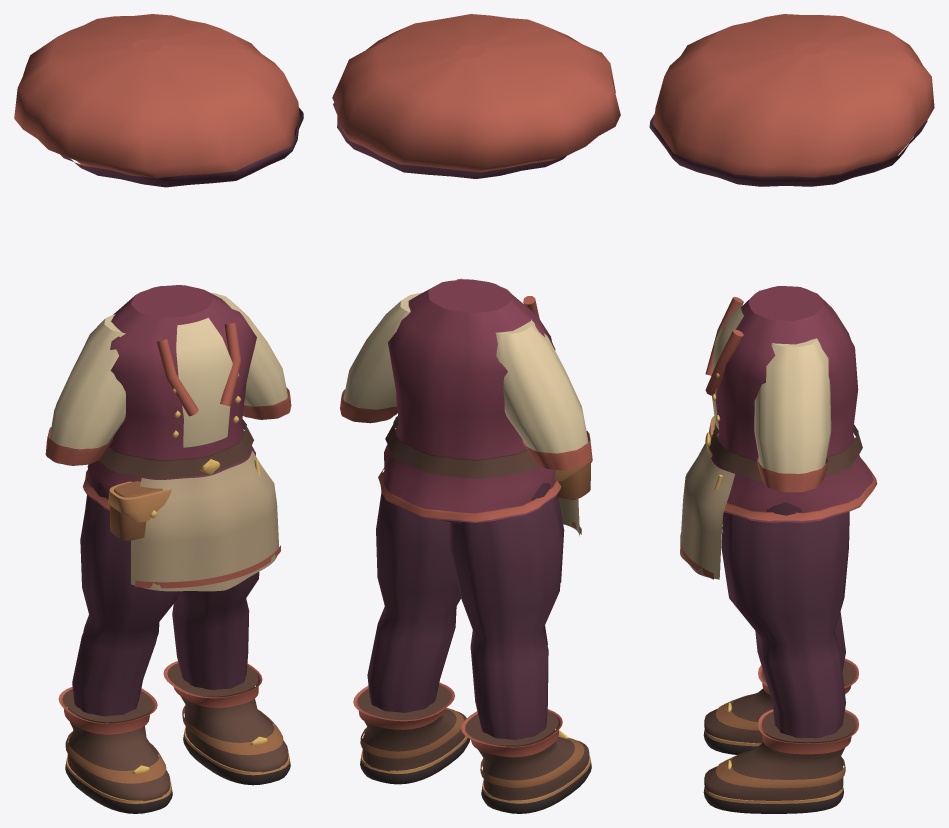
Rendered from merchant.glb.
3 views of the same model, side by side, from view 1: azimuth 30°, elevation 25°; view 2: azimuth 150°, elevation 25°; view 3: azimuth 270°, elevation 25° (orthographic). The views are drawn at different scales.
Parts seen in each view (by area): view 1: Top, Hat, Bottom, Boots; view 2: Top, Hat, Bottom, Boots; view 3: Hat, Top, Bottom, Boots.
Boxes of the visible parts, x1=… form: Top: x1=45, y1=285, x2=291, y2=591; Hat: x1=14, y1=14, x2=303, y2=187; Bottom: x1=72, y1=482, x2=259, y2=716; Boots: x1=58, y1=661, x2=290, y2=813; Top: x1=340, y1=278, x2=592, y2=536; Hat: x1=332, y1=14, x2=620, y2=178; Bottom: x1=367, y1=483, x2=564, y2=739; Boots: x1=353, y1=682, x2=591, y2=813; Hat: x1=649, y1=14, x2=934, y2=186; Top: x1=680, y1=286, x2=877, y2=579; Bottom: x1=721, y1=502, x2=849, y2=738; Boots: x1=703, y1=658, x2=858, y2=813.
Bounding box in the file's own units: 0.3833 × 1.05 × 0.3777.
